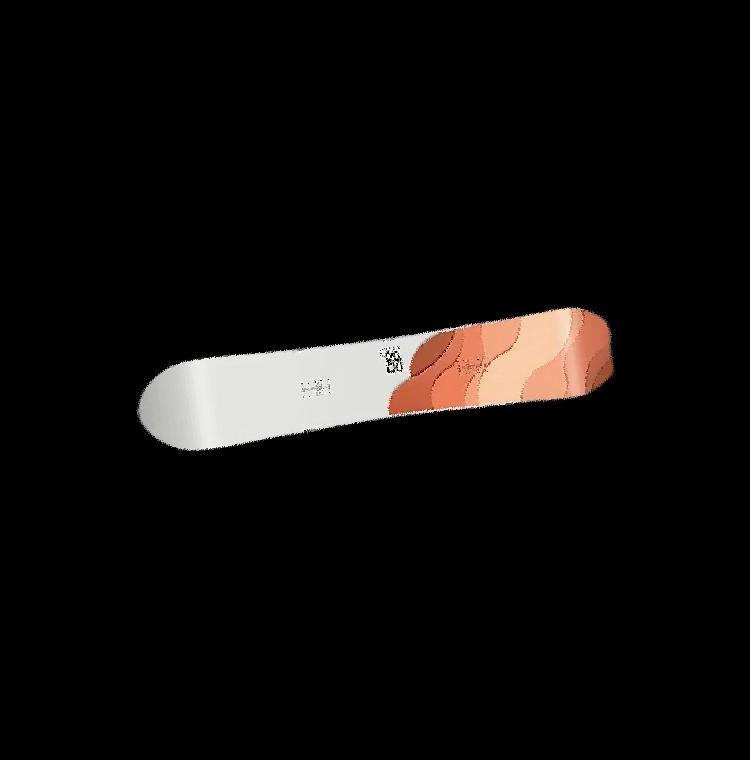Snowboard: (121, 304, 632, 454)
